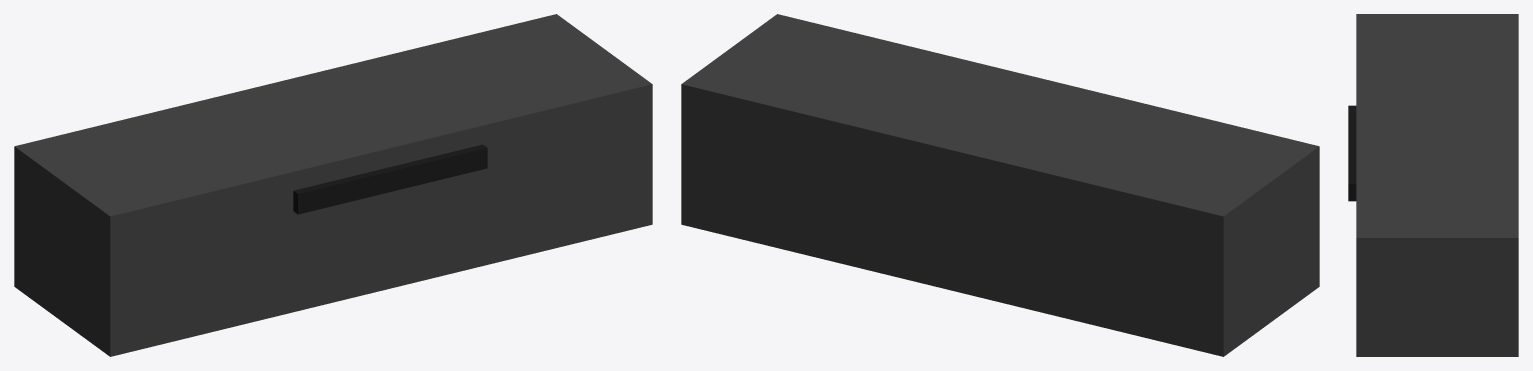
The model's file is fbx_drawer_2.fbx.
The picture shows the model from 3 angles, left to right: view 1: azimuth 30°, elevation 25°; view 2: azimuth 150°, elevation 25°; view 3: azimuth 270°, elevation 25°; orthographic projection. The views are drawn at different scales.
Visible parts, largest first — view 1: fbx_drawer_2; view 2: fbx_drawer_2; view 3: fbx_drawer_2.
Part boxes in pixels (bbox=[...]): fbx_drawer_2: bbox=[14, 14, 652, 356]; fbx_drawer_2: bbox=[681, 14, 1319, 356]; fbx_drawer_2: bbox=[1348, 14, 1518, 356].
Bounding box in the file's own units: 2.87 × 0.7102 × 0.9221.
Materials: 1 (1 with a texture image).
